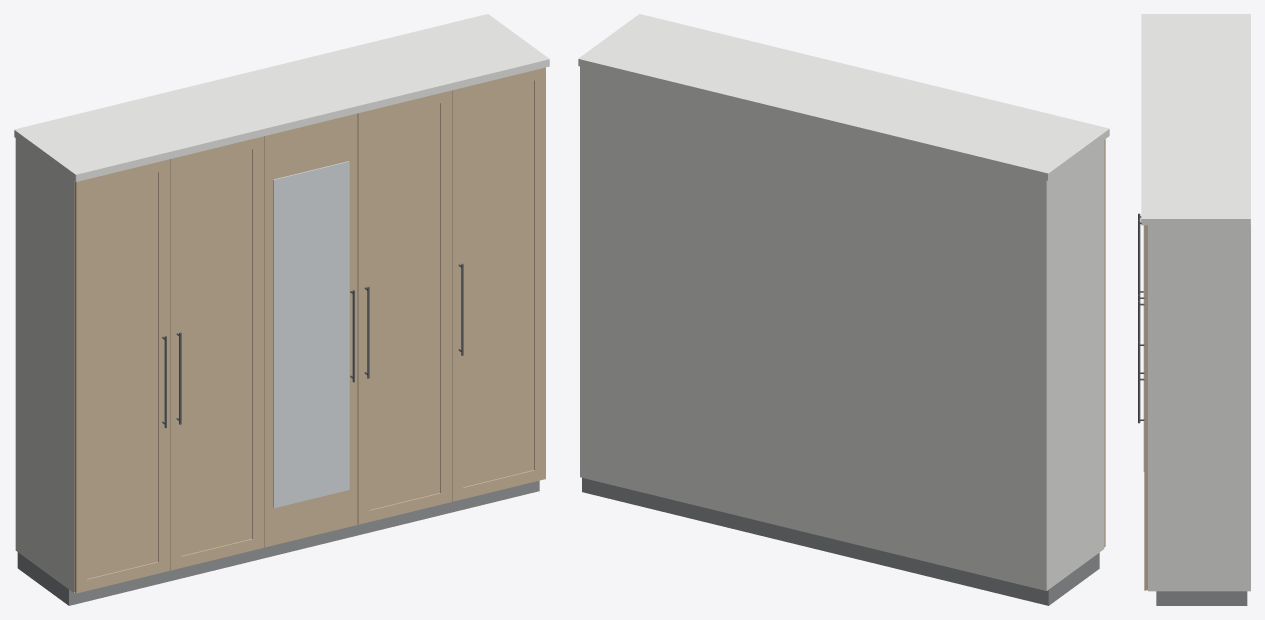
3 renders of one model, left to right at view 1: azimuth 30°, elevation 25°; view 2: azimuth 150°, elevation 25°; view 3: azimuth 270°, elevation 25°, orthographic. The views are drawn at different scales.
Parts seen in each view (by area): view 1: Tủ áo cánh mở Chiều rộng=2700; Chiều sâu=600; view 2: Tủ áo cánh mở Chiều rộng=2700; Chiều sâu=600; view 3: Tủ áo cánh mở Chiều rộng=2700; Chiều sâu=600.
Boxes of the visible parts, x1,y1,x2,y2 form: Tủ áo cánh mở Chiều rộng=2700; Chiều sâu=600: (14,14,549,605); Tủ áo cánh mở Chiều rộng=2700; Chiều sâu=600: (578,14,1109,605); Tủ áo cánh mở Chiều rộng=2700; Chiều sâu=600: (1138,14,1250,605).
Bounding box in the file's own units: 2.72 × 2.4 × 0.633.
